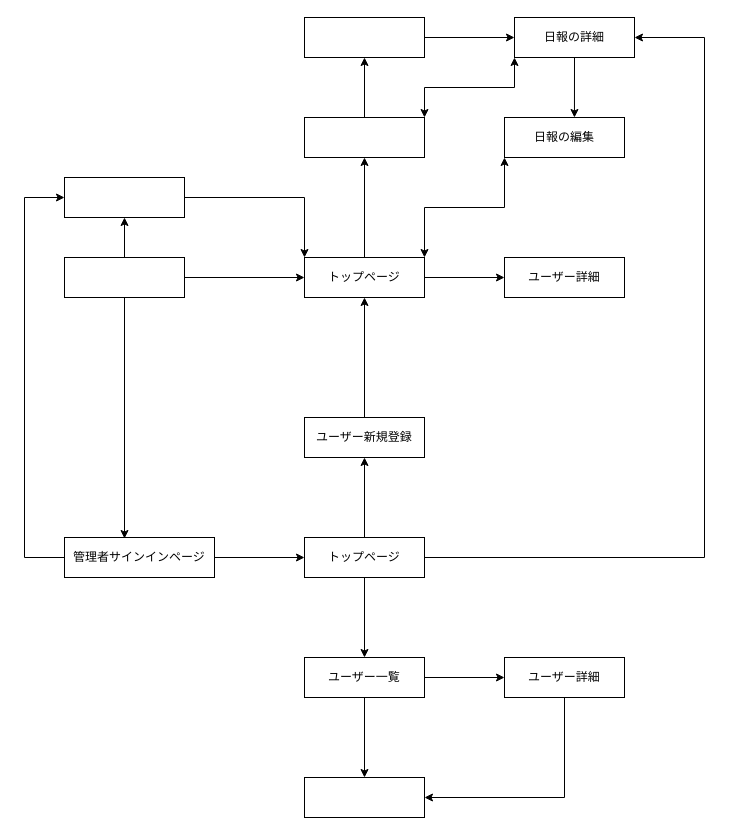
The diagram is 730 pixels wide and 835 high, and some of its shapes have lost their labels. Here are the shapes that lost their labels. From the top down, the centre of each, then its label:
At (364,37): "日報入力内容確認".
At (364,137): "日報の新規作成".
At (124,197): "管理者新規登録".
At (124,277): "サインインページ".
At (364,797): "ユーザー編集".
